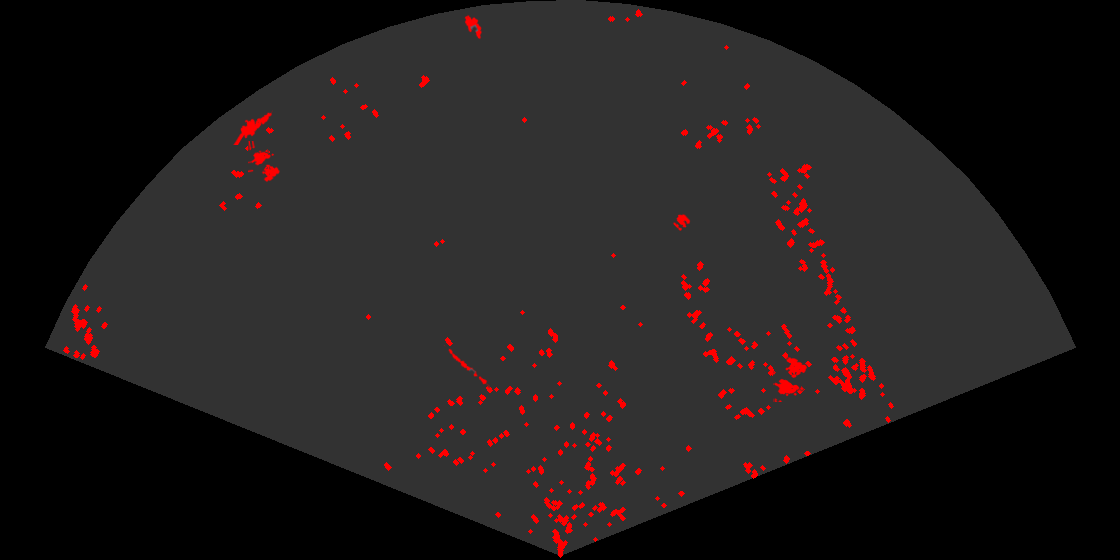AUV: (463, 13, 484, 41)
ball: (671, 212, 692, 232)
cage: (773, 356, 809, 402), (248, 141, 281, 184)
chain: (442, 345, 490, 389)
frogman: (233, 109, 273, 145)
